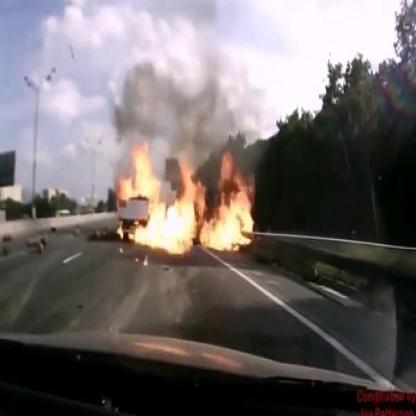fire: (110, 130, 258, 261)
